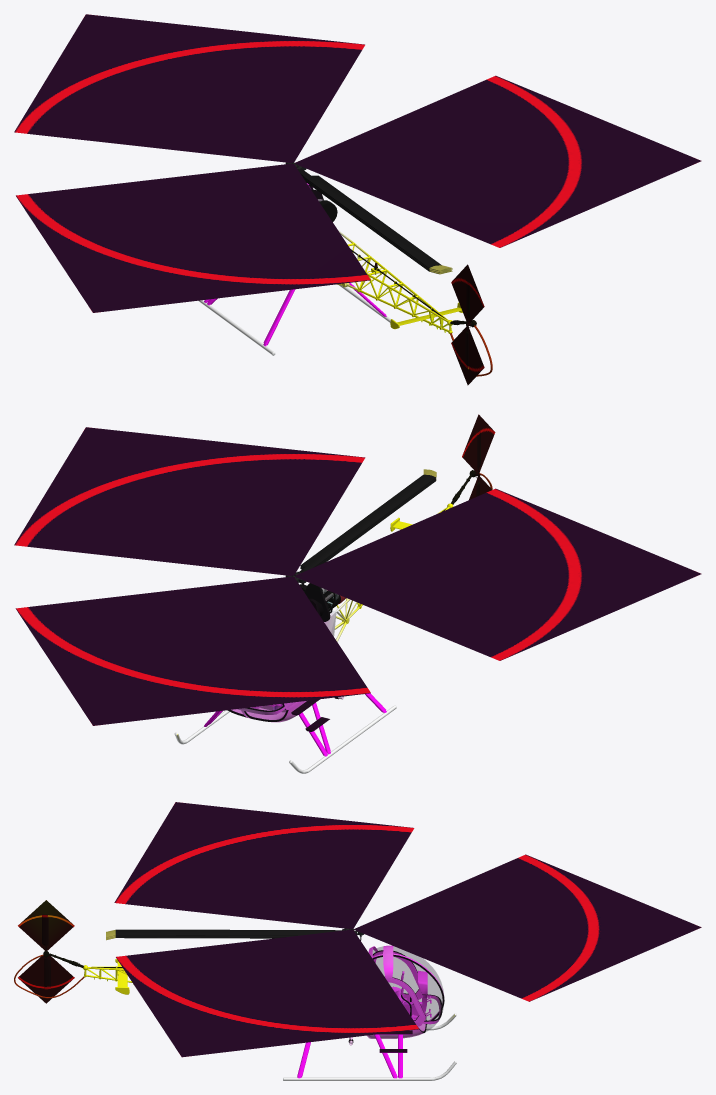
Rendered from seasparrow3.glb.
The picture shows the model from 3 angles, top to bottom: view 1: azimuth 30°, elevation 25°; view 2: azimuth 150°, elevation 25°; view 3: azimuth 270°, elevation 25°; orthographic projection. The views are drawn at different scales.
Visible parts, largest first — view 1: rotor_main_fast, bodyshell, tail, rotor_rear_fast; view 2: rotor_main_fast, bodyshell, rotor_rear_fast, tail, chassis; view 3: rotor_main_fast, bodyshell, rotor_rear_fast, windscreen, tail, chassis.
Part boxes in pixels (x1,y1,x2,y2): rotor_main_fast: [14, 14, 701, 312]; bodyshell: [198, 164, 452, 355]; tail: [346, 244, 492, 376]; rotor_rear_fast: [451, 264, 484, 385]; rotor_main_fast: [14, 427, 701, 725]; bodyshell: [174, 469, 436, 773]; rotor_rear_fast: [462, 414, 495, 499]; tail: [345, 430, 492, 618]; chassis: [227, 703, 288, 721]; rotor_main_fast: [114, 802, 701, 1057]; bodyshell: [106, 927, 456, 1080]; rotor_rear_fast: [18, 900, 74, 1003]; windscreen: [393, 946, 443, 1020]; tail: [14, 914, 133, 998]; chassis: [372, 950, 444, 1032].
Bounding box in the file's own units: 12.45 × 3.49 × 14.17.
10 materials, 8 textured.
